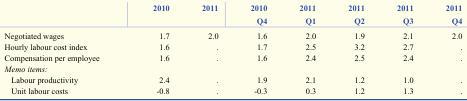table: (3, 3, 461, 94)
table column: (3, 3, 125, 94), (125, 3, 184, 94), (184, 3, 233, 94), (233, 3, 282, 94), (282, 3, 331, 94), (379, 3, 428, 94), (331, 3, 379, 94), (428, 3, 461, 94)
table column header: (3, 3, 461, 28)
table projected row header: (3, 63, 461, 74)
table row: (3, 3, 461, 28), (3, 28, 461, 41), (3, 41, 461, 52), (3, 52, 461, 63), (3, 63, 461, 74), (3, 74, 461, 84), (3, 84, 461, 94)
